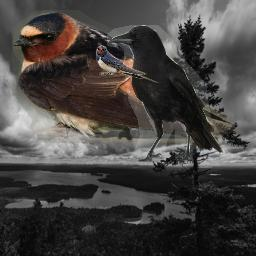Crow: (107, 25, 223, 164)
Swallow: (12, 10, 235, 143), (96, 45, 159, 83)
